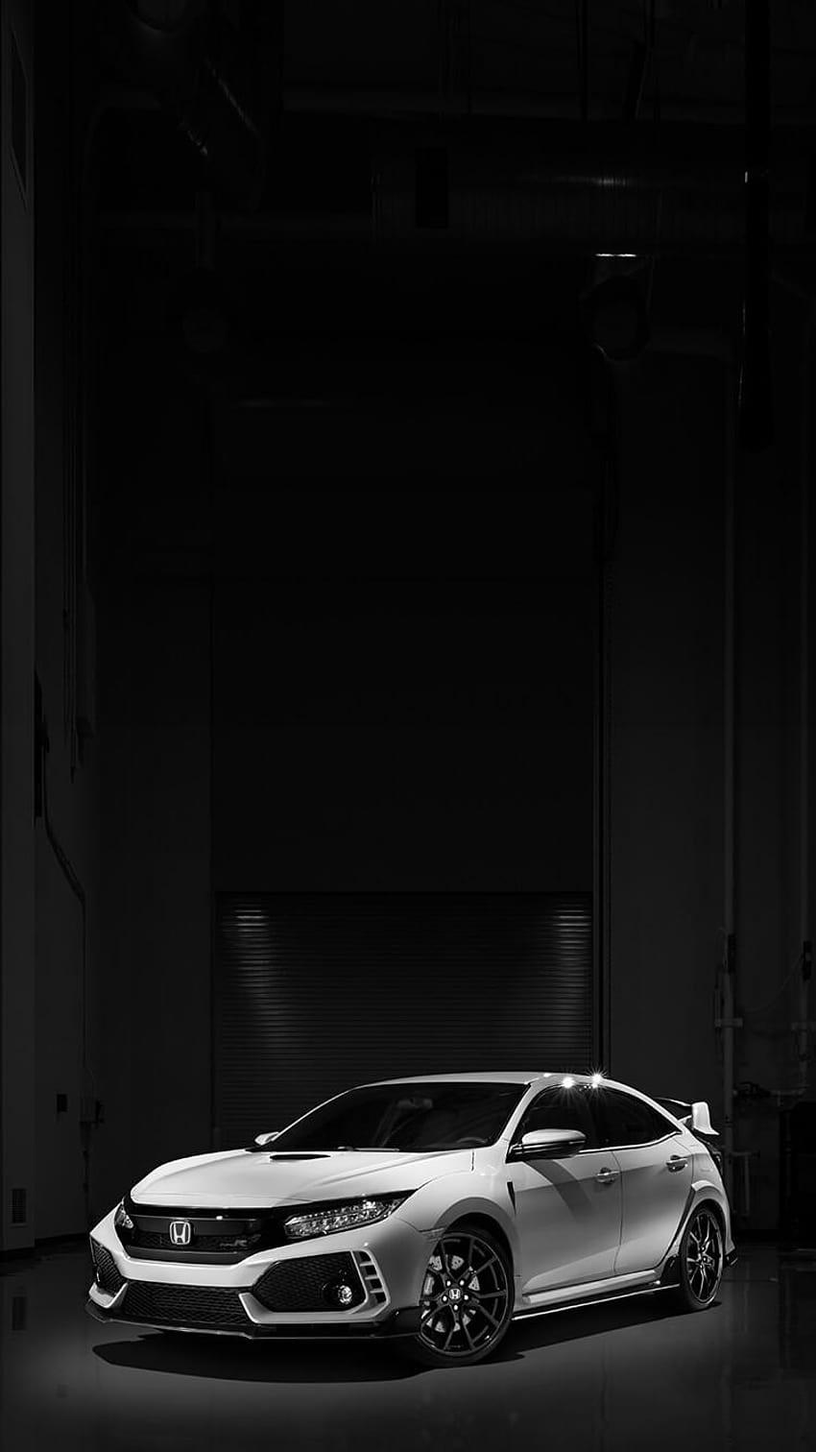Car hood: (130, 1148, 474, 1213)
Fender - -F-L-: (394, 1140, 524, 1316)
Fender - -R-L-: (663, 1123, 730, 1286)
Front bumper: (85, 1211, 437, 1347)
Headlight - -L-: (281, 1188, 417, 1245)
Headlight - -R-: (113, 1194, 131, 1229)
Passenger-s door - -F-L-: (509, 1070, 627, 1322)
Passenger-s door - -R-L-: (580, 1065, 700, 1308)
Side bumper - -L-: (510, 1253, 680, 1335)
Side mirror - -L-: (510, 1128, 586, 1163)
